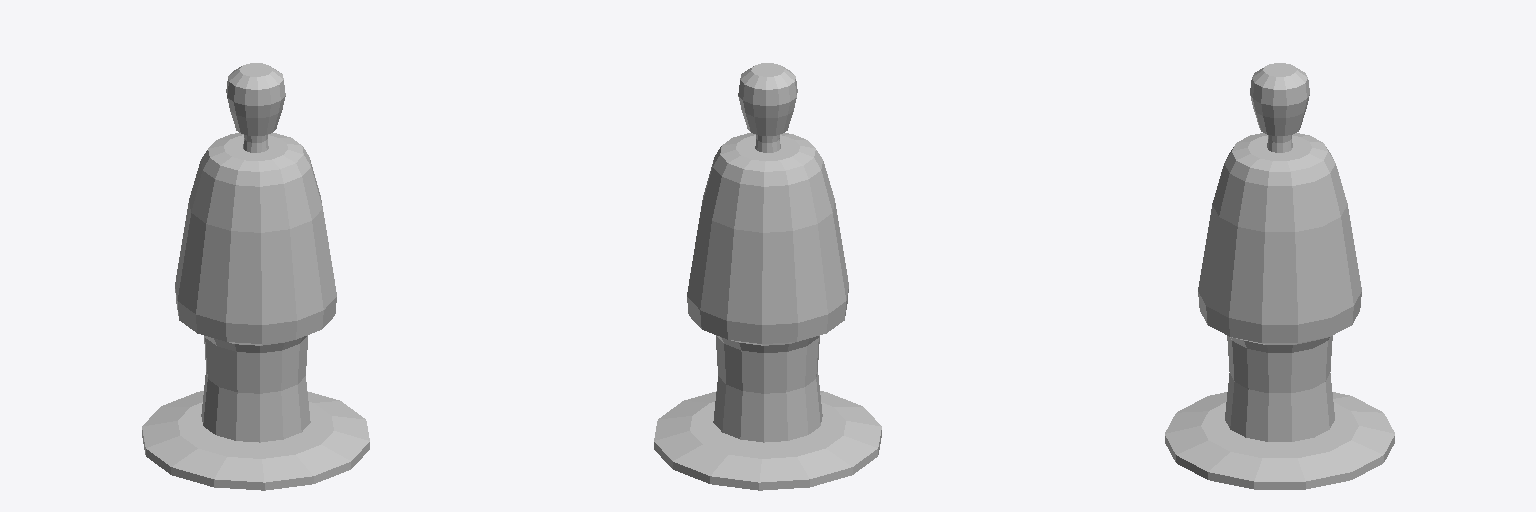
Rendered from human-short_005.obj.
3 views of the same model, side by side, from view 1: azimuth 30°, elevation 25°; view 2: azimuth 150°, elevation 25°; view 3: azimuth 270°, elevation 25° (orthographic).
Parts seen in each view (by area): view 1: human-short.005; view 2: human-short.005; view 3: human-short.005.
Boxes of the visible parts, x1,y1,x2,y2 form: human-short.005: [142, 63, 369, 490]; human-short.005: [654, 63, 881, 490]; human-short.005: [1165, 63, 1394, 489].
Size of the model in its own units: 0.85 by 1.55 by 0.8719.